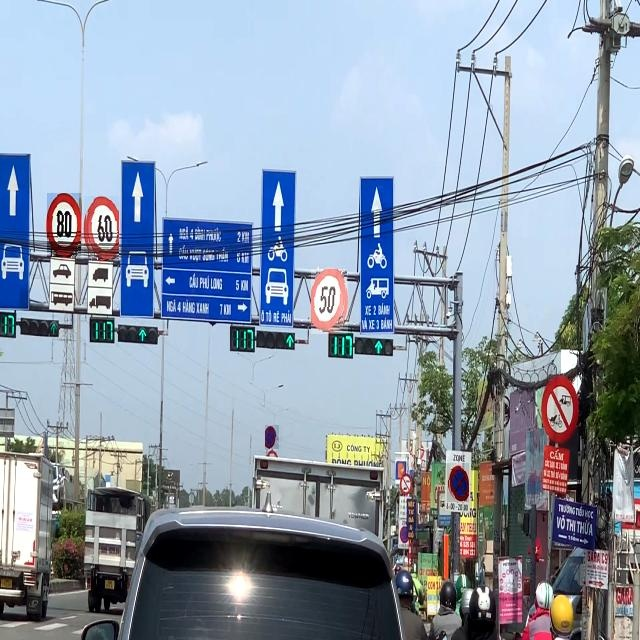bien_cam: (311, 269, 348, 334), (84, 196, 119, 260), (47, 193, 81, 257), (447, 463, 469, 502), (266, 425, 280, 449)
